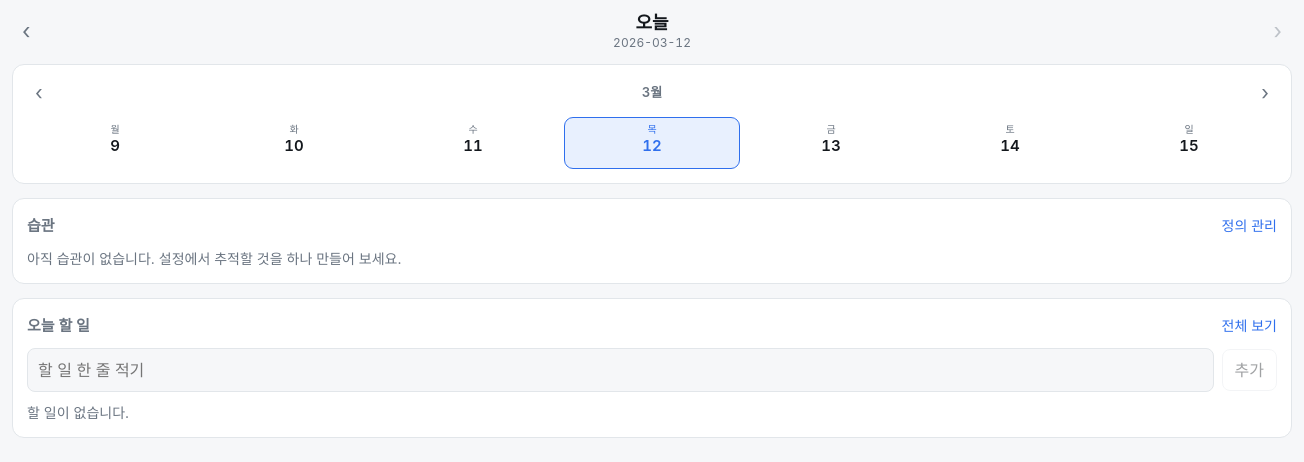
Scenario: 오늘 화면 — 한 줄로 할 일 적기 › 제목만 넣고 추가하면 보고 있는 날 기한으로 만들어진다
Type "우유 사기" into the field named "할 일 제목" at (620, 370), box [27,348,1214,392]
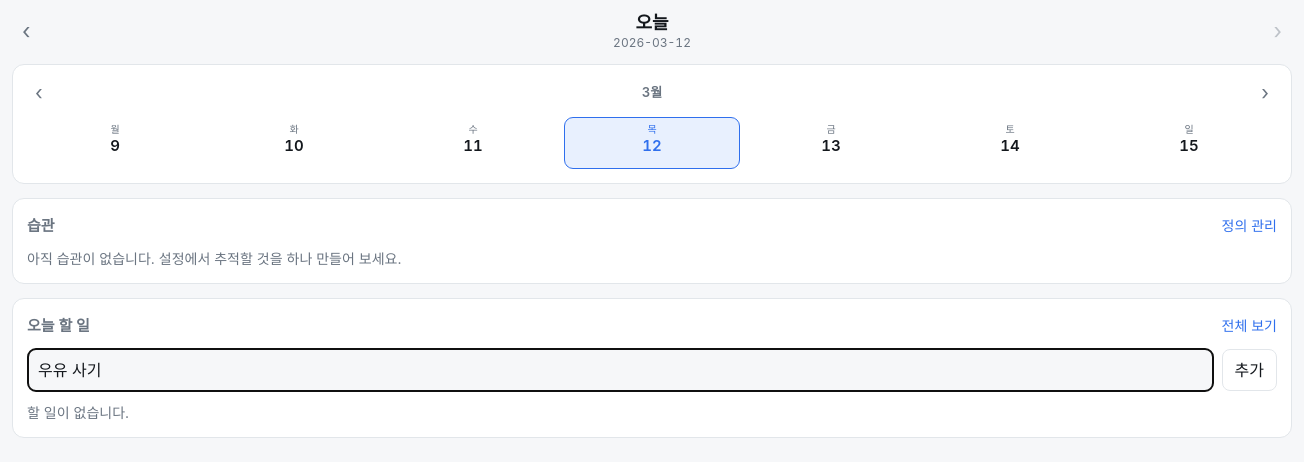
Click the button with aria-label "할 일 추가" at (1249, 370), box [1222,348,1277,390]
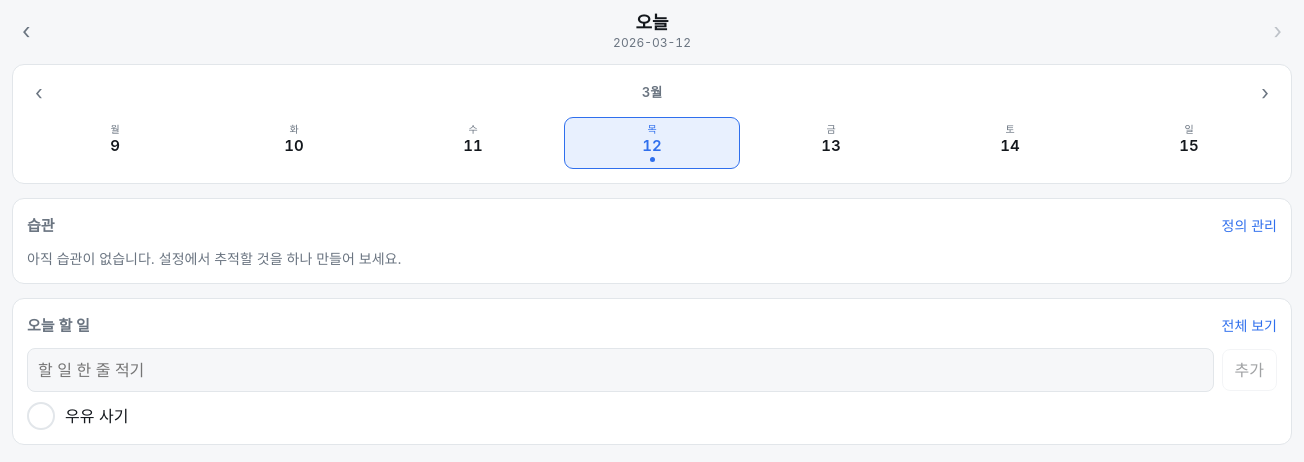
Check: the text "우유 사기" is shown, box [65,406,128,426]
